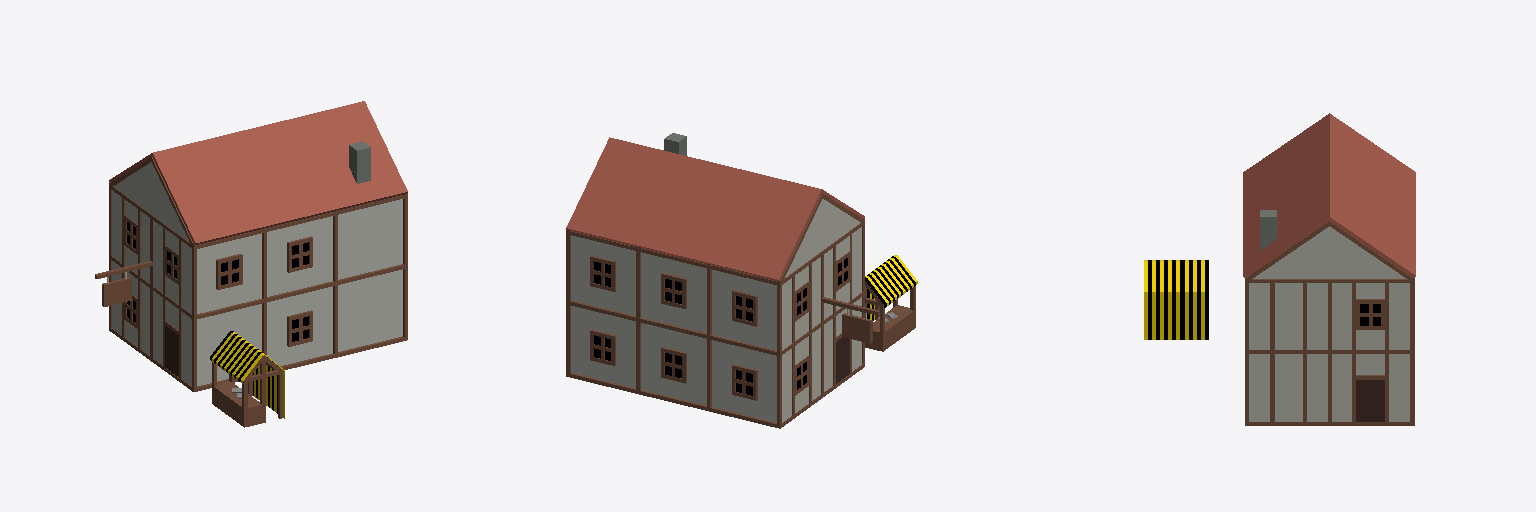
Rendered from timberframedclothier_black_yellow.obj.
The picture shows the model from 3 angles: view 1: azimuth 30°, elevation 25°; view 2: azimuth 150°, elevation 25°; view 3: azimuth 270°, elevation 25°; orthographic projection.
Visible parts, largest first — view 1: Cube.005, Cube.007_Cube.011, Cube.011_Cube.015, Cube.018_Cube.016, Cube.056_Cube.081, Cube.001_Cube.058, Cube.013_Cube.080, Cube.006_Cube.010, Cube.055_Cube.059, Cube.026_Cube.019, Cube.073_Cube.078, Cube.012_Cube.017 (+5 smaller); view 2: Cube.005, Cube.007_Cube.011, Cube.023_Cube.026, Cube.022_Cube.025, Cube.021_Cube.024, Cube.015_Cube.020, Cube.019_Cube.022, Cube.017_Cube.021, Cube.014_Cube.018, Cube.008, Cube.020_Cube.023, Cube.073_Cube.078 (+6 smaller); view 3: Cube.005, Cube.007_Cube.011, Cube.147_Cube.153, Cube.003, Cube.033, Cube.027, Cube.047_Cube.049, Cube.031, Cube.016_Cube.013, Cube.006_Cube.010, Cube.012_Cube.017, Cube.035 (+4 smaller).
Boxes of the visible parts, x1,y1,x2,y2 form: Cube.005: [112, 162, 402, 385]; Cube.007_Cube.011: [109, 101, 407, 244]; Cube.011_Cube.015: [195, 264, 406, 319]; Cube.018_Cube.016: [195, 195, 406, 249]; Cube.056_Cube.081: [216, 254, 242, 289]; Cube.001_Cube.058: [287, 310, 312, 346]; Cube.013_Cube.080: [287, 236, 312, 272]; Cube.006_Cube.010: [349, 141, 370, 183]; Cube.055_Cube.059: [197, 336, 406, 391]; Cube.026_Cube.019: [192, 243, 196, 391]; Cube.073_Cube.078: [102, 277, 131, 306]; Cube.012_Cube.017: [403, 193, 407, 339]; Cube.005: [571, 199, 861, 422]; Cube.007_Cube.011: [566, 137, 864, 280]; Cube.023_Cube.026: [567, 373, 776, 427]; Cube.022_Cube.025: [567, 301, 776, 355]; Cube.021_Cube.024: [570, 231, 776, 284]; Cube.015_Cube.020: [732, 290, 757, 326]; Cube.019_Cube.022: [661, 347, 686, 383]; Cube.017_Cube.021: [590, 330, 615, 365]; Cube.014_Cube.018: [661, 273, 686, 308]; Cube.008: [590, 255, 615, 291]; Cube.020_Cube.023: [732, 364, 757, 400]; Cube.073_Cube.078: [842, 313, 872, 343]; Cube.005: [1249, 226, 1409, 421]; Cube.007_Cube.011: [1243, 113, 1415, 277]; Cube.147_Cube.153: [1144, 292, 1208, 339]; Cube.003: [1356, 380, 1384, 421]; Cube.033: [1356, 299, 1384, 329]; Cube.027: [1410, 277, 1414, 425]; Cube.047_Cube.049: [1270, 279, 1274, 423]; Cube.031: [1249, 422, 1410, 425]; Cube.016_Cube.013: [1248, 350, 1409, 353]; Cube.006_Cube.010: [1260, 210, 1276, 249]; Cube.012_Cube.017: [1245, 277, 1248, 425]; Cube.035: [1352, 279, 1355, 423].
Size of the model in its own units: 15.3 by 11.25 by 13.34.